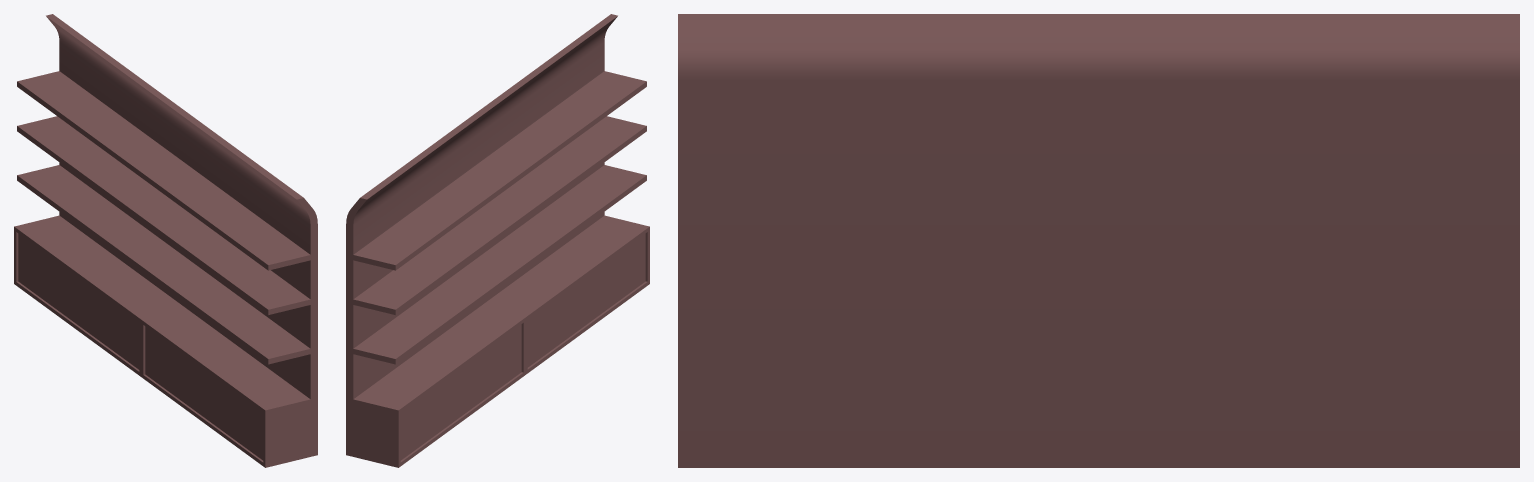
Rendered from Estante 4.fbx.
3 views of the same model, side by side, from view 1: azimuth 30°, elevation 25°; view 2: azimuth 150°, elevation 25°; view 3: azimuth 270°, elevation 25° (orthographic). The views are drawn at different scales.
Visible parts, largest first — view 1: Box012; view 2: Box012; view 3: Box012.
Part boxes in pixels (<box>): Box012: <box>14,14,317,467</box>; Box012: <box>346,14,649,467</box>; Box012: <box>678,14,1519,467</box>.
Size of the model in its own units: 5.87 by 27.84 by 48.63.
